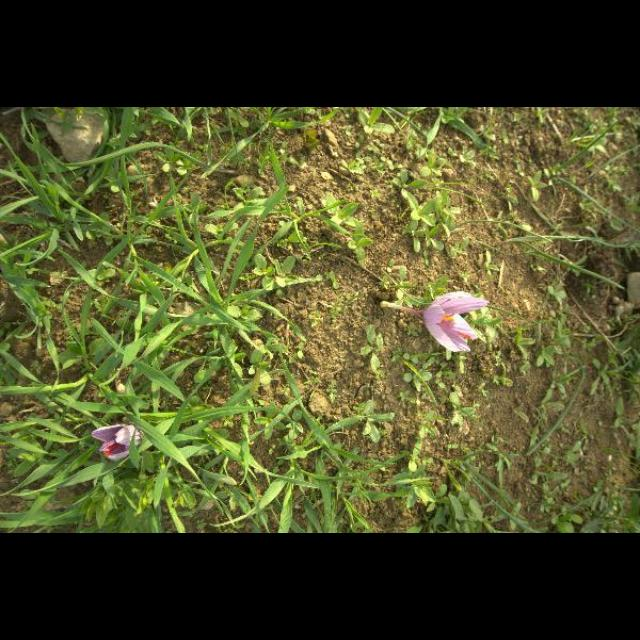flower: (422, 292, 490, 352), (92, 425, 140, 463)
